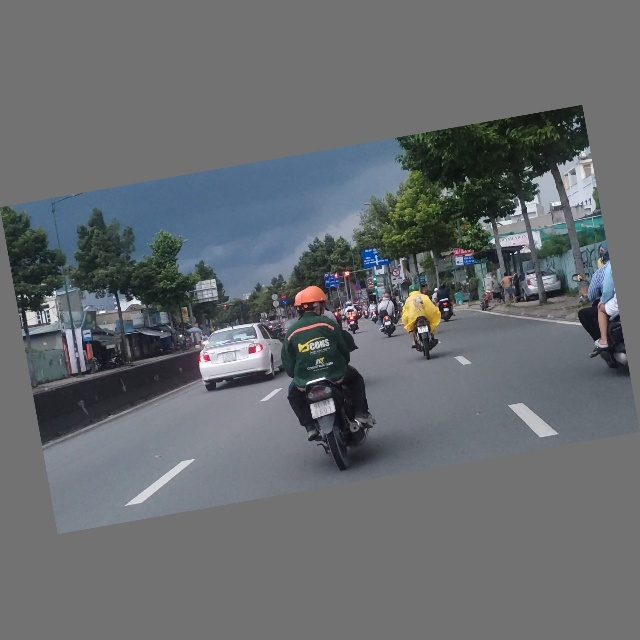P.137: (392, 268, 400, 278)
R.415a: (324, 276, 340, 289)
